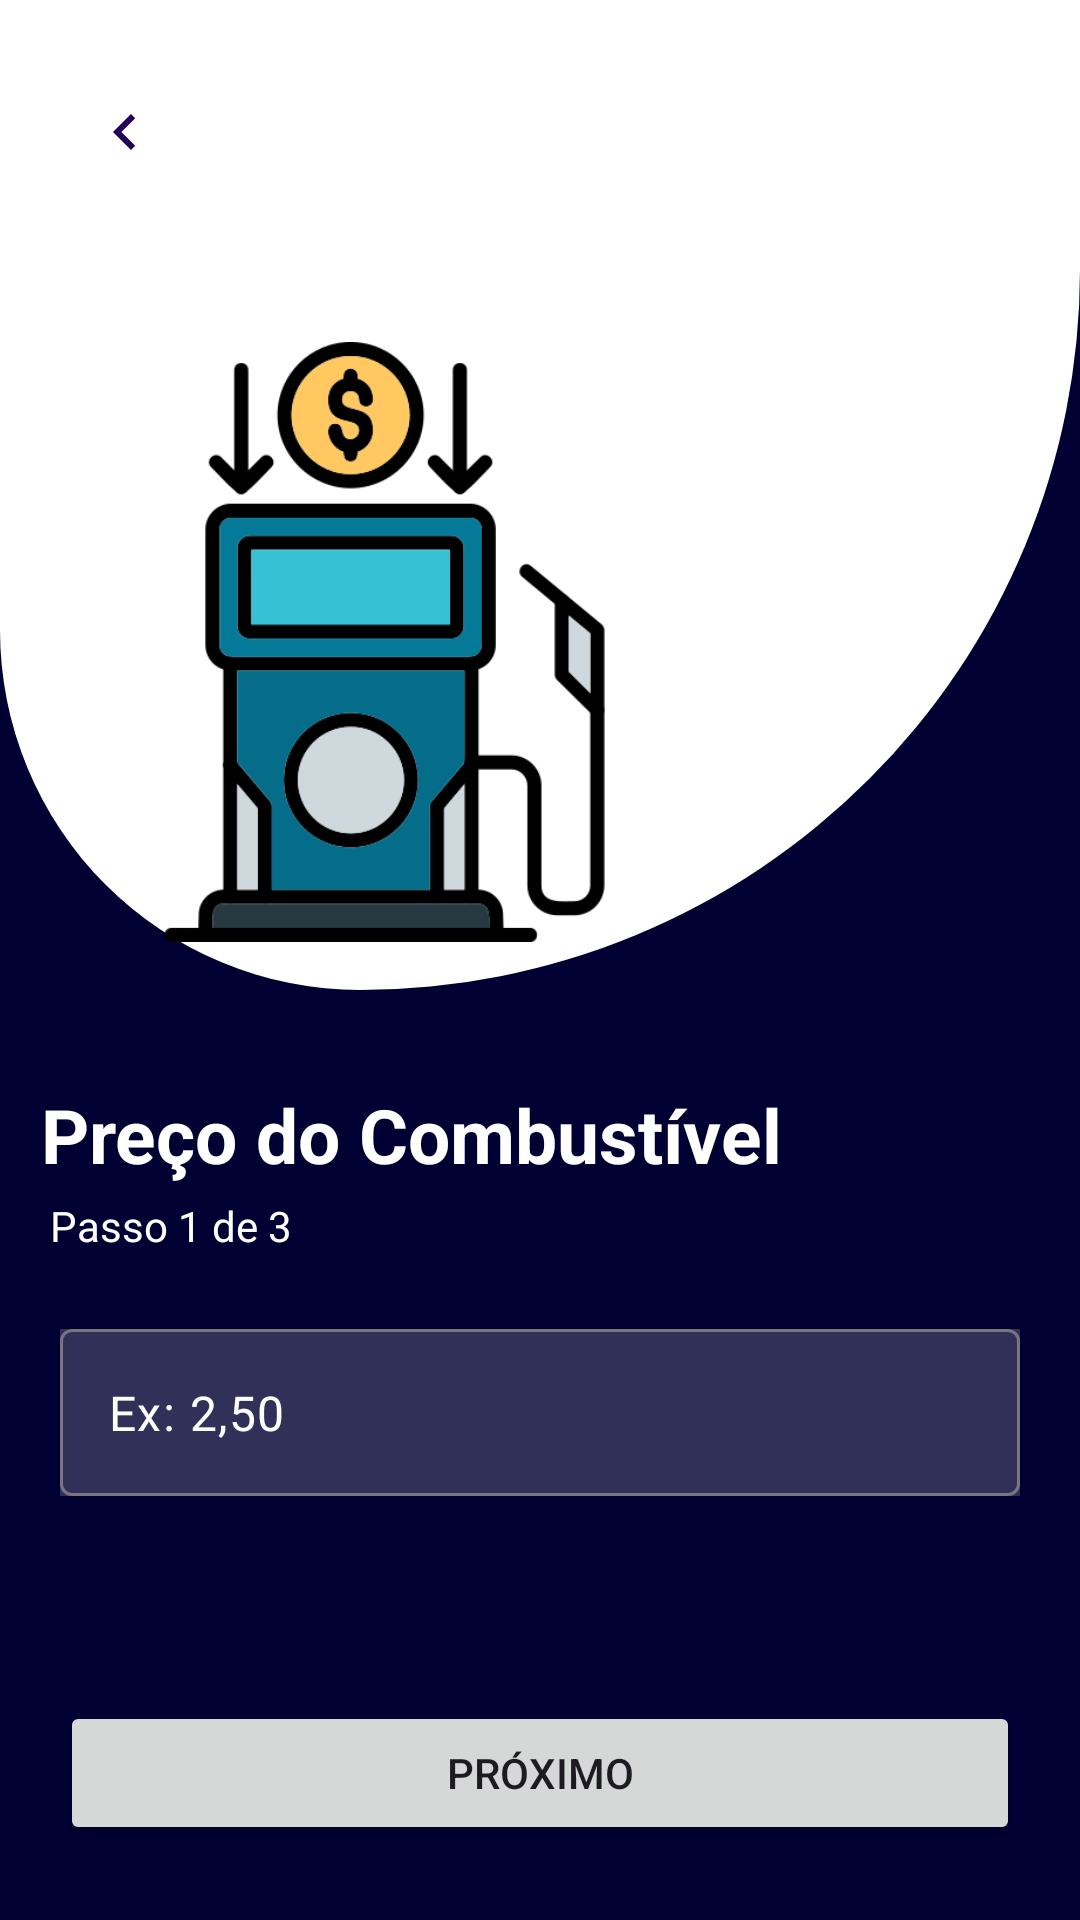

Named icons in this screenshot (1080x1920) and their bounding boxes, [x1, y1, x2, y2]:
Voltar: [113, 114, 135, 150]
